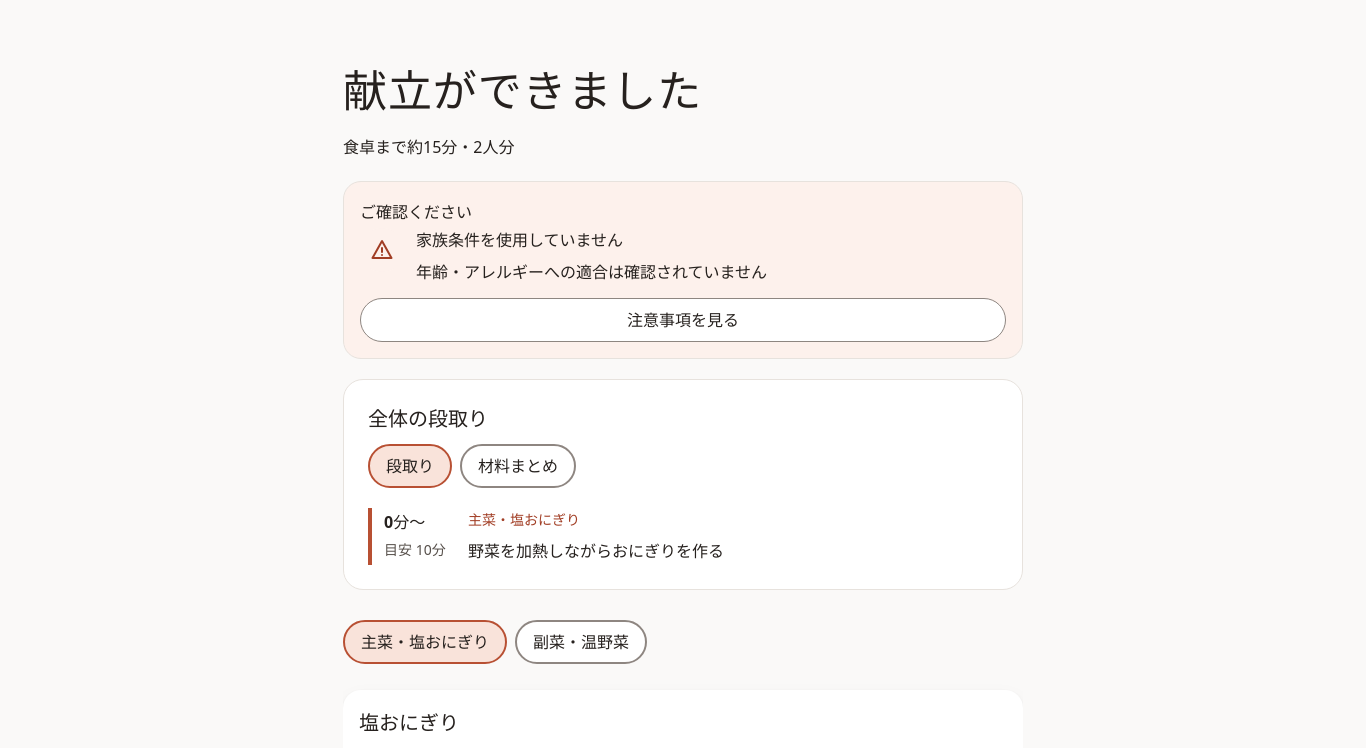
it: MenuResultPage › idea result boundary › shows permitted actions without mounting revalidation or shopping
Expected: the heading "献立ができました" is shown, [343, 68, 702, 117]
Expected: the text "ご確認ください" is shown, [360, 201, 472, 223]
Click the button "注意事項を見る". click: (683, 320)
box: [360, 298, 1006, 342]
(page scrolled)
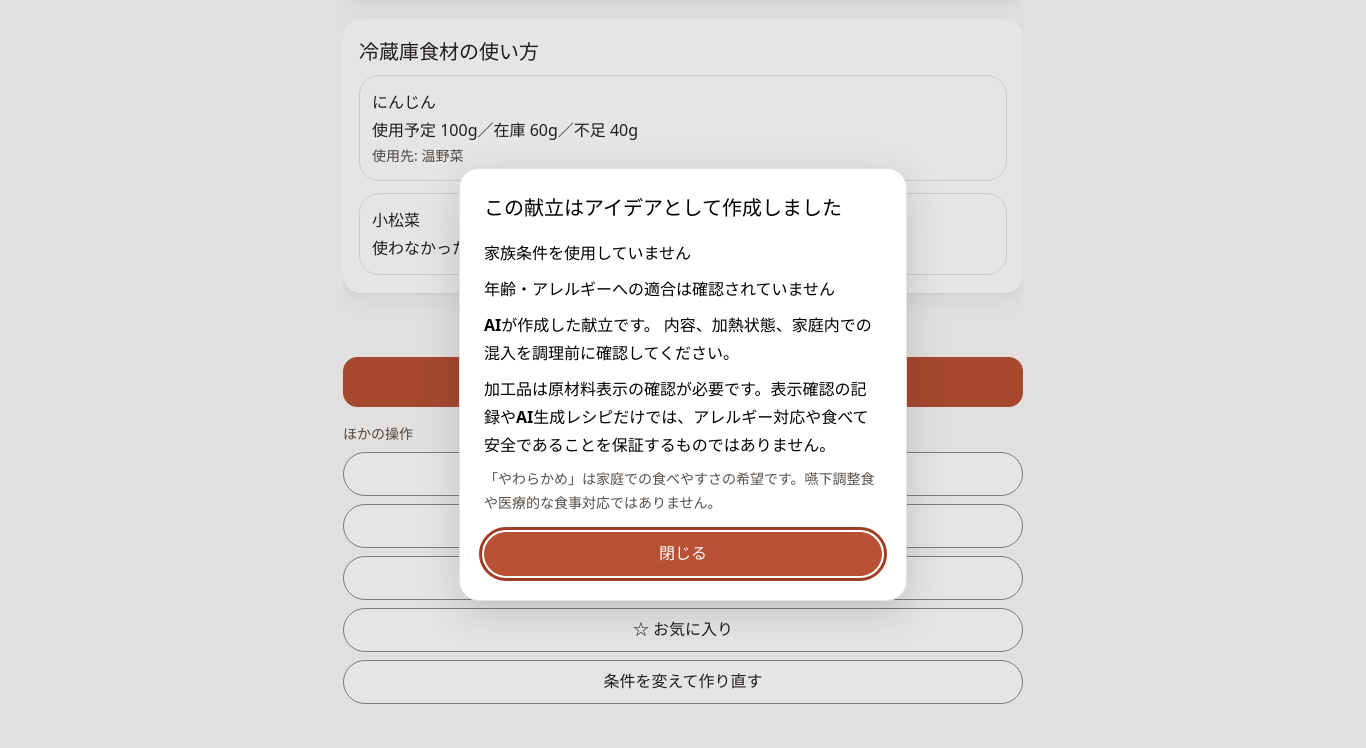
Now the dialog "この献立はアイデアとして作成しました" is shown, box [459, 168, 907, 600]
Now the dialog "この献立はアイデアとして作成しました" shows "家族条件を使用していません", box [484, 242, 691, 264]
Now the dialog "この献立はアイデアとして作成しました" shows "年齢・アレルギーへの適合は確認されていません", box [484, 278, 835, 300]
